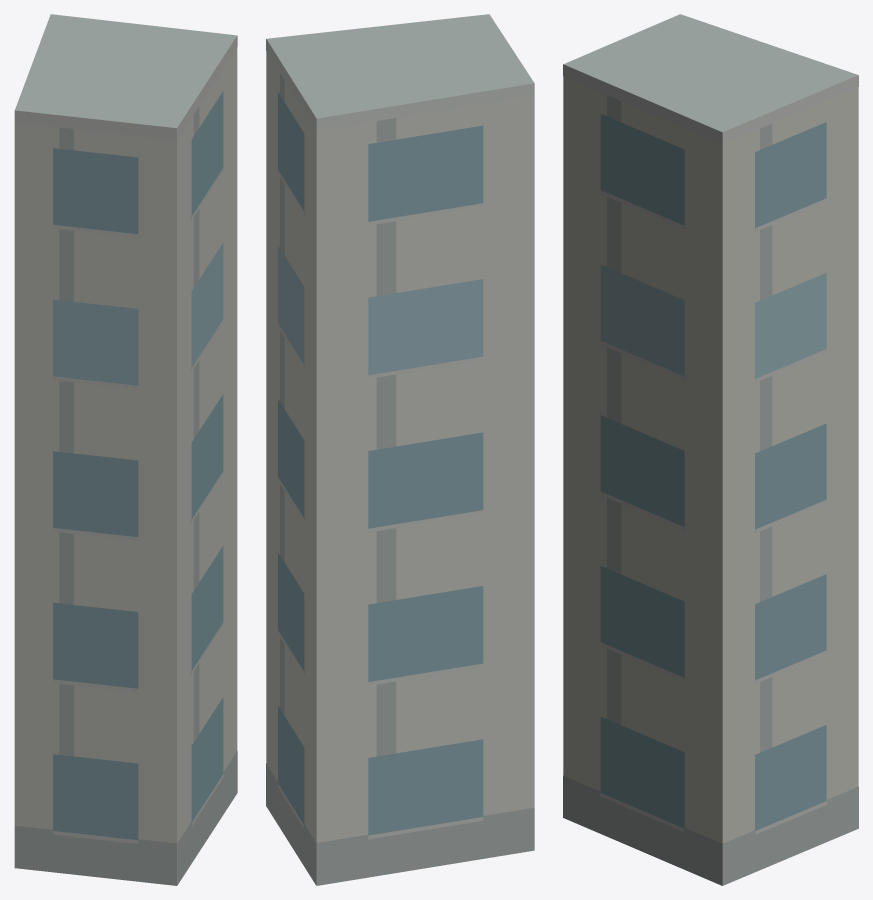
The model's file is survey-upis-32984464.glb.
3 views of the same model, side by side, from view 1: azimuth 30°, elevation 25°; view 2: azimuth 150°, elevation 25°; view 3: azimuth 270°, elevation 25° (orthographic).
Parts seen in each view (by area): view 1: survey-upis-32984464.tmp; view 2: survey-upis-32984464.tmp; view 3: survey-upis-32984464.tmp.
Boxes of the visible parts, box(x1,y1,x2,y2) form: survey-upis-32984464.tmp: box(14, 14, 237, 885); survey-upis-32984464.tmp: box(266, 14, 534, 885); survey-upis-32984464.tmp: box(563, 14, 858, 885).
Bounding box in the file's own units: 5.14 × 15.25 × 5.42.
